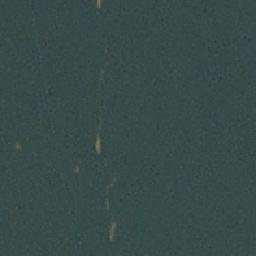debris: (106, 202, 117, 241), (94, 122, 102, 156)
